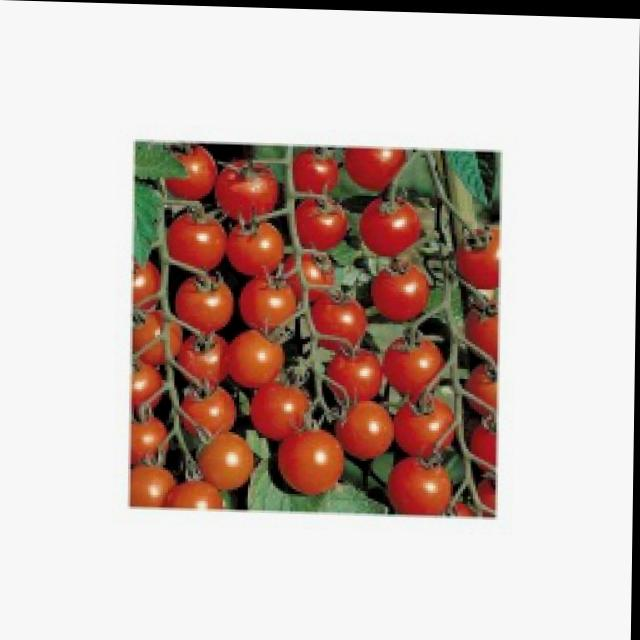tomato: (272, 428, 348, 498), (395, 387, 458, 463), (171, 269, 240, 336), (389, 452, 455, 516), (371, 257, 434, 323), (216, 157, 279, 220), (361, 192, 422, 255), (225, 218, 288, 279), (250, 381, 315, 437), (337, 398, 398, 457), (199, 430, 260, 487), (311, 287, 366, 347), (328, 346, 383, 401), (165, 143, 217, 201), (295, 194, 348, 249), (178, 332, 230, 386), (457, 221, 500, 286), (345, 146, 406, 189), (292, 146, 340, 194), (132, 463, 176, 507), (132, 416, 169, 465), (467, 305, 498, 361), (466, 362, 496, 414), (168, 480, 224, 507), (134, 257, 161, 308), (134, 362, 163, 409), (471, 420, 498, 468)
